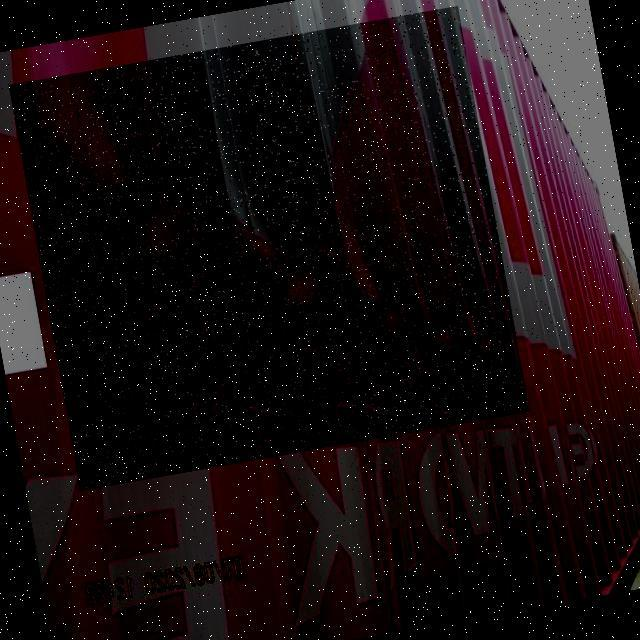Dent: (9, 6, 530, 491)
